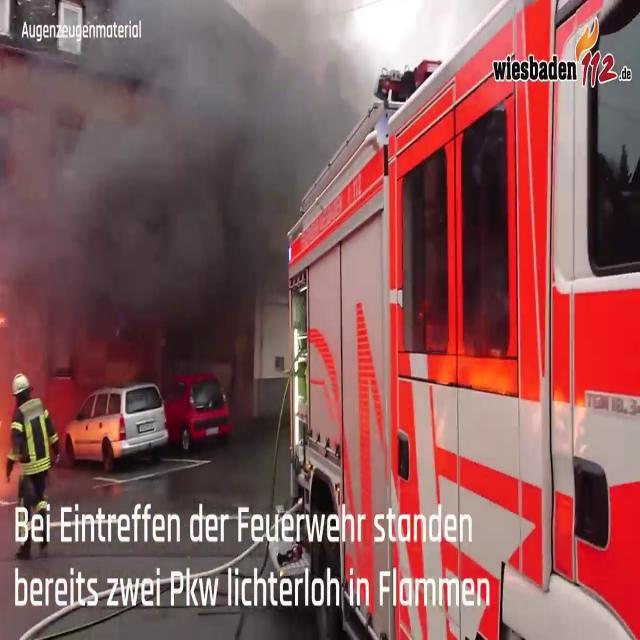Smoke: (0, 0, 354, 332)
